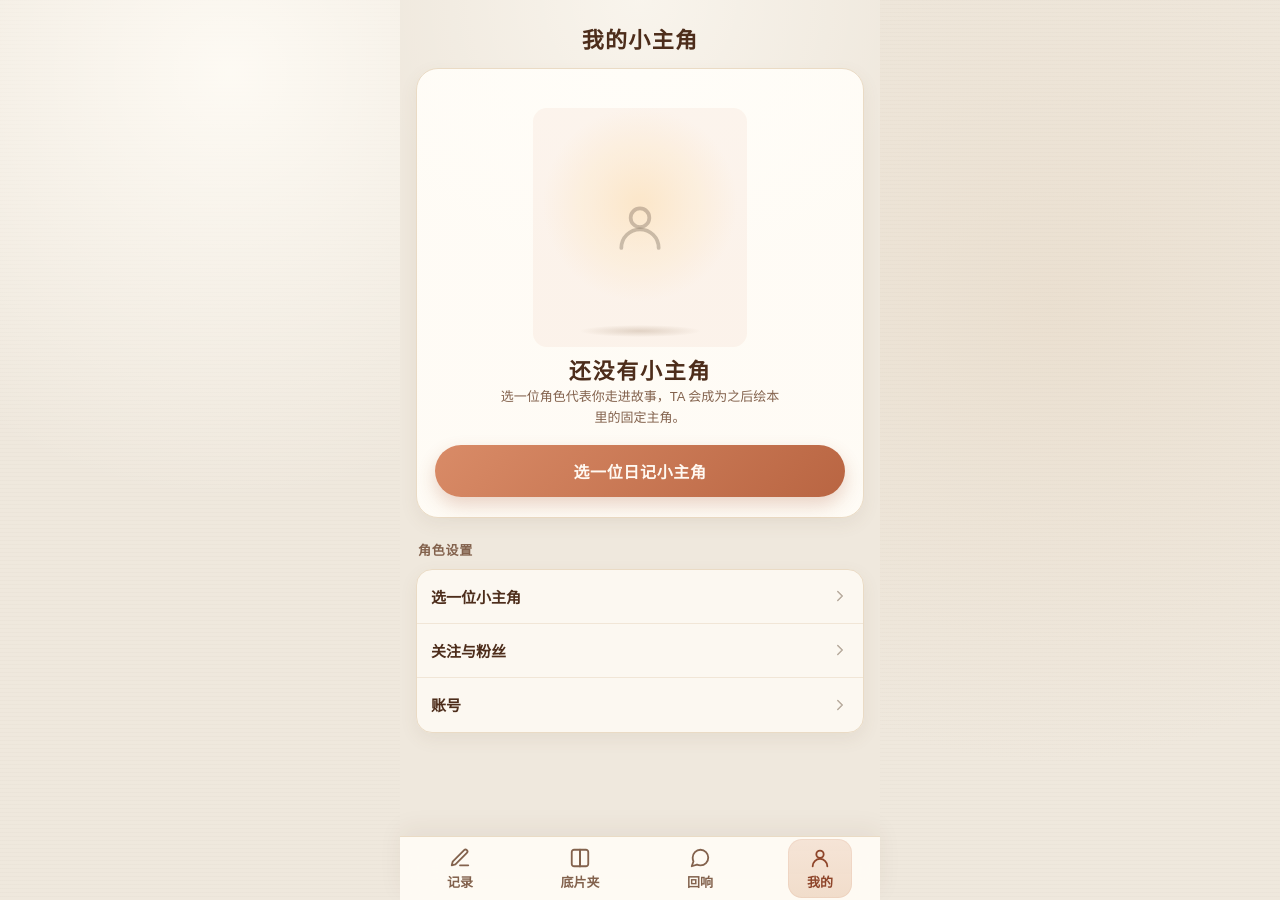
Test: application identity and room states › Film folder groups picturebooks by month from the collection API
This screenshot has width=1280, height=900.
Click the button "底片夹": (580, 868) [548, 839, 612, 898]
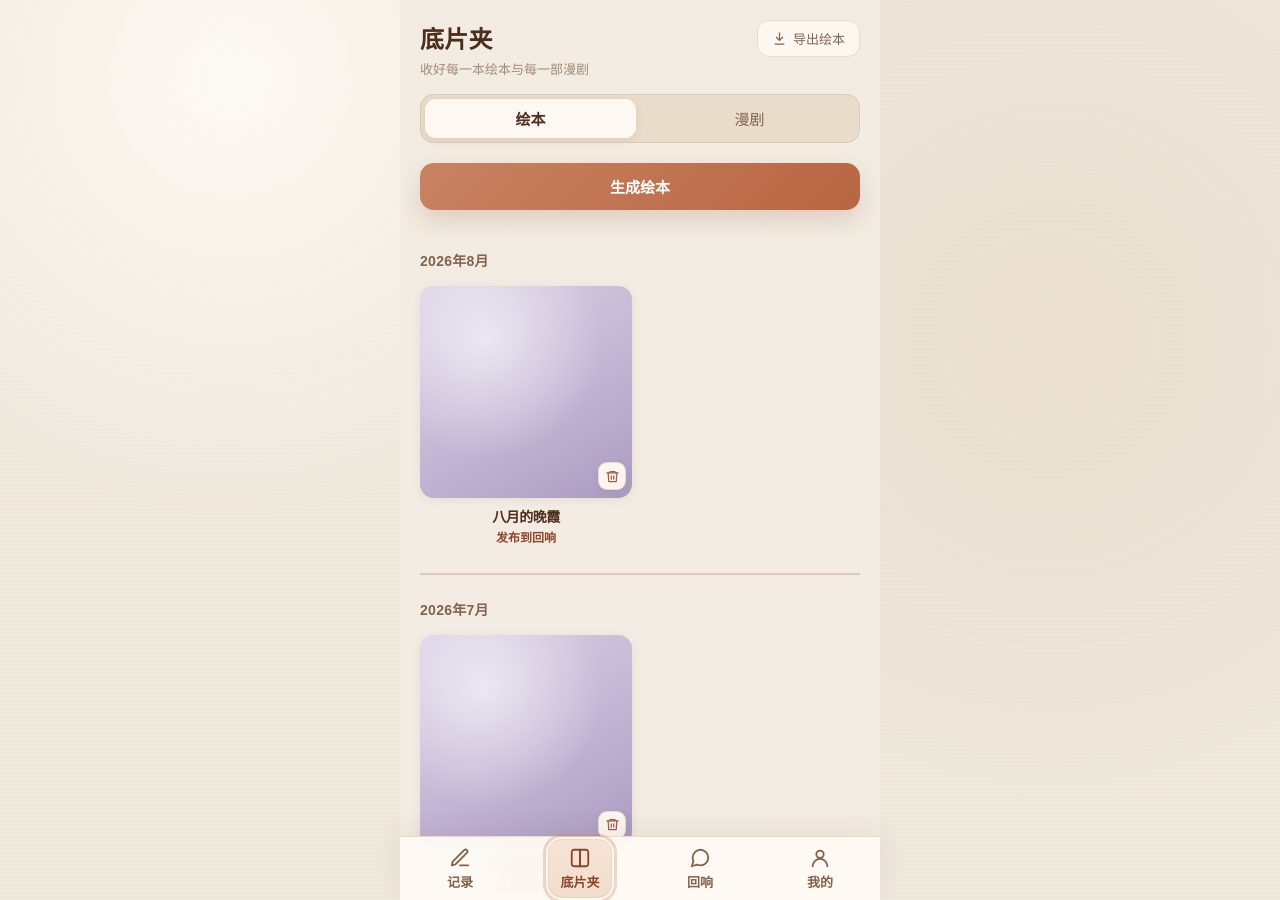
Now the heading "底片夹" is shown, box [420, 26, 493, 53]
Now the heading "2026年8月" is shown, box [420, 253, 489, 269]
Now the heading "2026年7月" is shown, box [420, 602, 489, 618]
